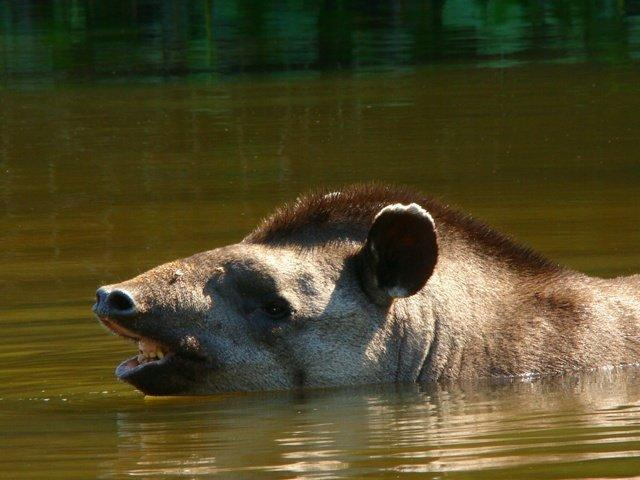Anta: (86, 178, 636, 405)
